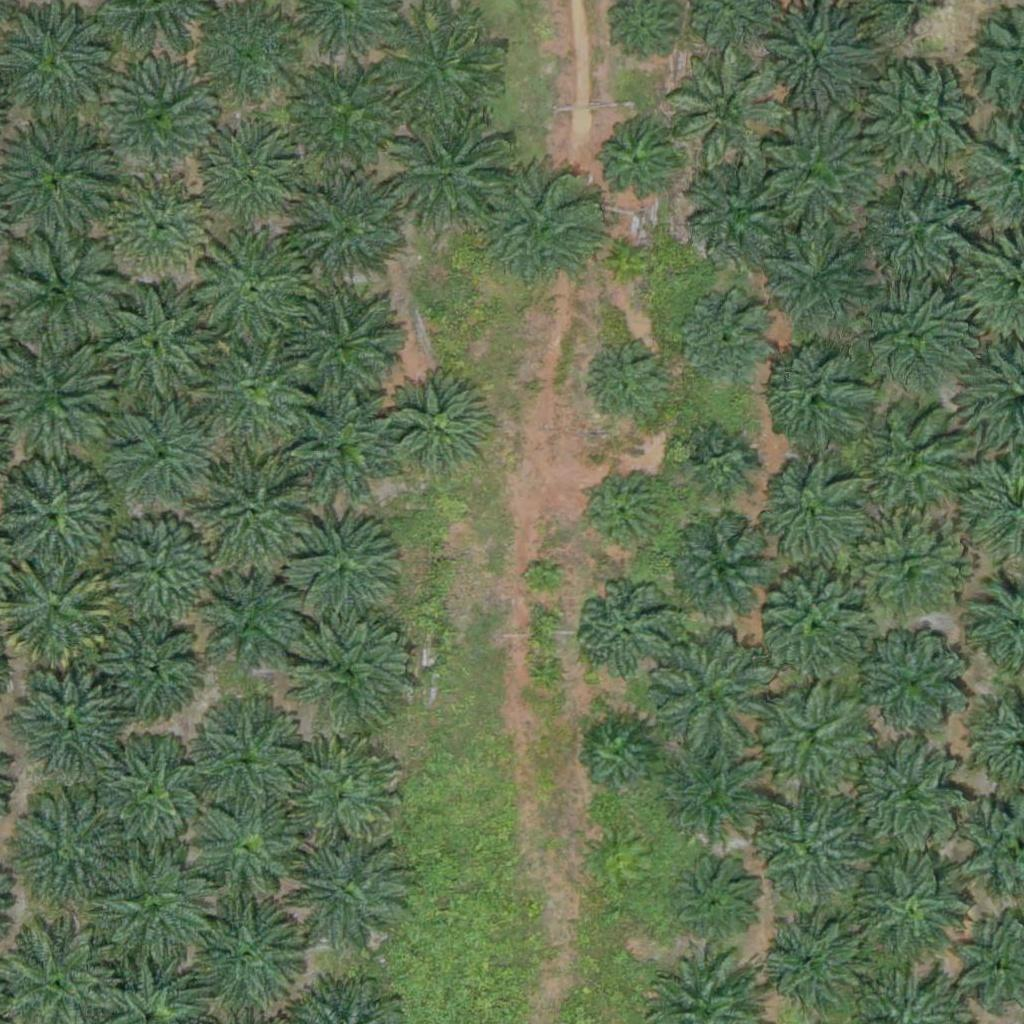Kelapa_Sawit: (290, 59, 415, 185), (380, 15, 505, 141), (863, 59, 988, 185), (757, 105, 882, 231), (382, 108, 507, 234), (279, 286, 404, 412), (285, 507, 410, 633), (284, 603, 409, 729), (186, 455, 311, 581), (193, 327, 318, 453), (185, 230, 310, 356), (90, 287, 215, 413), (6, 234, 131, 360), (646, 629, 771, 755), (185, 695, 310, 821), (92, 731, 217, 857), (279, 733, 404, 859), (5, 663, 130, 789), (89, 854, 214, 980), (181, 895, 306, 1021), (283, 833, 408, 959), (482, 162, 607, 287), (107, 65, 220, 179), (103, 169, 216, 283), (669, 52, 782, 165), (855, 405, 968, 518), (849, 511, 962, 624), (761, 572, 874, 685), (751, 456, 864, 569), (761, 340, 874, 453), (766, 222, 879, 335), (382, 375, 495, 488), (192, 573, 305, 686), (106, 399, 219, 512), (104, 513, 217, 626), (859, 622, 972, 735), (854, 737, 967, 850), (854, 850, 967, 963), (288, 389, 400, 503), (859, 178, 971, 291), (858, 279, 970, 392), (686, 161, 798, 274), (288, 174, 400, 287), (195, 117, 307, 230), (759, 688, 871, 801), (660, 739, 772, 852), (755, 795, 867, 908), (679, 290, 779, 391), (671, 521, 771, 622), (99, 614, 199, 715), (763, 916, 863, 1017), (575, 584, 675, 684), (197, 803, 297, 903), (584, 342, 672, 430), (582, 470, 670, 558), (594, 118, 682, 206), (672, 853, 759, 941), (581, 718, 656, 794), (683, 425, 758, 500), (617, 241, 655, 279), (525, 561, 562, 599)
